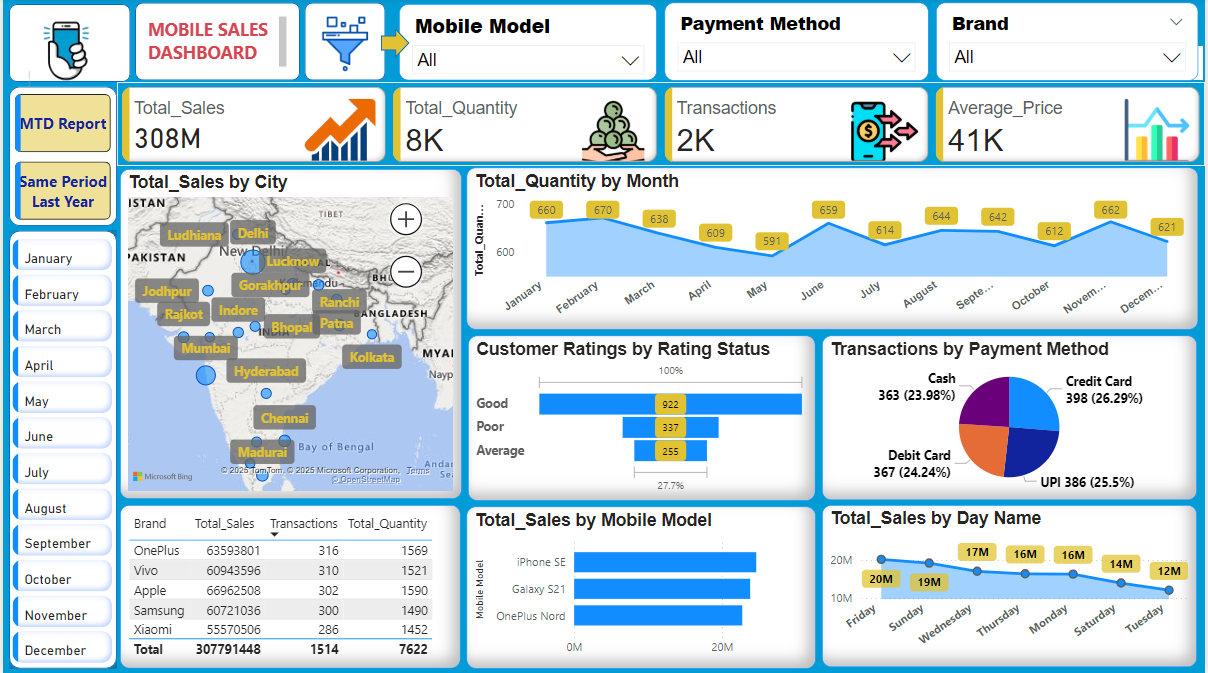

The dashboard page shown, as its layout file describes it:
{"tool":"powerbi","page":{"name":"Dashboard","canvas":[1280,720],"ordinal":0},"visuals":[{"type":"shape","box":[6.4,6.4,129.4,83.1],"z":0},{"type":"image","box":[9.6,9.6,115,92.7],"z":1000},{"type":"shape","box":[6.4,94.3,115,148.6],"z":2000},{"type":"shape","box":[6.7,248.3,115,466.7],"z":3000},{"type":"advancedSlicerVisual","fields":{"Values":["Custom_Calender.Date.Variation.Date Hierarchy.Month"]},"box":[4.8,250.8,116.6,468.1],"z":4000},{"type":"cardVisual","fields":{"Data":["Mobile_Sales_Data.TOTAL_SALES","Mobile_Sales_Data.TOTAL_QUANTITY","Mobile_Sales_Data.TOTAL_TRANSACTIONS","Mobile_Sales_Data.AVERAGE_PRICE"]},"box":[121.4,89.5,1158.3,90],"z":5000},{"type":"slicer","fields":{"Values":["Mobile_Sales_Data.Mobile Model"]},"box":[421.8,6.4,274.8,81.5],"z":6000},{"type":"slicer","fields":{"Values":["Mobile_Sales_Data.Payment Method"]},"box":[704.6,4.8,281.2,83.1],"z":7000},{"type":"slicer","fields":{"Values":["Mobile_Sales_Data.Brand"]},"box":[993.8,4.8,279.6,83.1],"z":8000},{"type":"shape","box":[321.1,4.8,86.3,83.1],"z":9000},{"type":"image","box":[329.1,9.6,70.3,78.3],"z":10000},{"type":"shape","box":[402.6,32,30.4,32],"z":11000},{"type":"shape","box":[140.6,4.8,175.7,83.1],"z":12000},{"type":"textbox","box":[148.6,14.4,158.2,70.3],"z":13000},{"type":"map","fields":{"Category":["Mobile_Sales_Data.City"],"Size":["Mobile_Sales_Data.TOTAL_SALES"]},"box":[124.6,182.1,364.3,351.5],"z":14000},{"type":"lineChart","fields":{"Y":["Mobile_Sales_Data.TOTAL_QUANTITY"],"Category":["Custom_Calender.Date.Variation.Date Hierarchy.Month"]},"box":[493.7,180.5,779.7,172.5],"z":15000},{"type":"funnel","title":"Customer Ratings by Rating Status","fields":{"Y":["CountNonNull(Mobile_Sales_Data.Customer Ratings)"],"Category":["Mobile_Sales_Data.Rating Status"]},"box":[495.3,359.5,370,175.7],"z":16000},{"type":"pieChart","fields":{"Category":["Mobile_Sales_Data.Payment Method"],"Y":["Mobile_Sales_Data.TRANSCTIONS"]},"box":[872.3,359.5,399.4,175],"z":17000},{"type":"clusteredBarChart","fields":{"Y":["Mobile_Sales_Data.TOTAL_SALES"],"Category":["Mobile_Sales_Data.Mobile Model"]},"box":[493.7,541.6,372.3,172.5],"z":18000},{"type":"areaChart","fields":{"Category":["Custom_Calender.Day Name"],"Y":["Mobile_Sales_Data.TOTAL_SALES"]},"box":[872.3,540,399.4,172.5],"z":19000},{"type":"tableEx","fields":{"Values":["Mobile_Sales_Data.Brand","Mobile_Sales_Data.TOTAL_SALES","Mobile_Sales_Data.TRANSCTIONS","Mobile_Sales_Data.Total_Quantity"]},"box":[124.6,540,362.7,174.1],"z":20000},{"type":"pageNavigator","box":[12.8,102.3,102.3,134.2],"z":21000}]}

Visuals, with their boxes in screenshot pixels (x1, y1, x2, y2), scaled from the page's 1280x720 canvas onto the 1208x673 screenshot:
shape: pyautogui.locateOnScreen(6, 6, 128, 84)
image: pyautogui.locateOnScreen(9, 9, 118, 96)
shape: pyautogui.locateOnScreen(6, 88, 115, 227)
shape: pyautogui.locateOnScreen(6, 232, 115, 668)
advancedSlicerVisual - Custom_Calender.Date.Variation.Date Hierarchy.Month: pyautogui.locateOnScreen(5, 234, 115, 672)
cardVisual - Mobile_Sales_Data.TOTAL_SALES x Mobile_Sales_Data.TOTAL_QUANTITY: pyautogui.locateOnScreen(115, 84, 1207, 168)
slicer - Mobile_Sales_Data.Mobile Model: pyautogui.locateOnScreen(398, 6, 657, 82)
slicer - Mobile_Sales_Data.Payment Method: pyautogui.locateOnScreen(665, 4, 930, 82)
slicer - Mobile_Sales_Data.Brand: pyautogui.locateOnScreen(938, 4, 1202, 82)
shape: pyautogui.locateOnScreen(303, 4, 384, 82)
image: pyautogui.locateOnScreen(311, 9, 377, 82)
shape: pyautogui.locateOnScreen(380, 30, 409, 60)
shape: pyautogui.locateOnScreen(133, 4, 299, 82)
textbox: pyautogui.locateOnScreen(140, 13, 290, 79)
map - Mobile_Sales_Data.City x Mobile_Sales_Data.TOTAL_SALES: pyautogui.locateOnScreen(118, 170, 461, 499)
lineChart - Mobile_Sales_Data.TOTAL_QUANTITY x Custom_Calender.Date.Variation.Date Hierarchy.Month: pyautogui.locateOnScreen(466, 169, 1202, 330)
"Customer Ratings by Rating Status" funnel: pyautogui.locateOnScreen(467, 336, 817, 500)
pieChart - Mobile_Sales_Data.Payment Method x Mobile_Sales_Data.TRANSCTIONS: pyautogui.locateOnScreen(823, 336, 1200, 500)
clusteredBarChart - Mobile_Sales_Data.TOTAL_SALES x Mobile_Sales_Data.Mobile Model: pyautogui.locateOnScreen(466, 506, 817, 667)
areaChart - Custom_Calender.Day Name x Mobile_Sales_Data.TOTAL_SALES: pyautogui.locateOnScreen(823, 505, 1200, 666)
tableEx - Mobile_Sales_Data.Brand x Mobile_Sales_Data.TOTAL_SALES: pyautogui.locateOnScreen(118, 505, 460, 667)
pageNavigator: pyautogui.locateOnScreen(12, 96, 109, 221)
